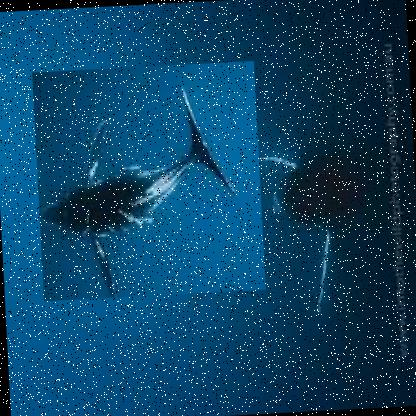blue_whale: (32, 58, 266, 300)
